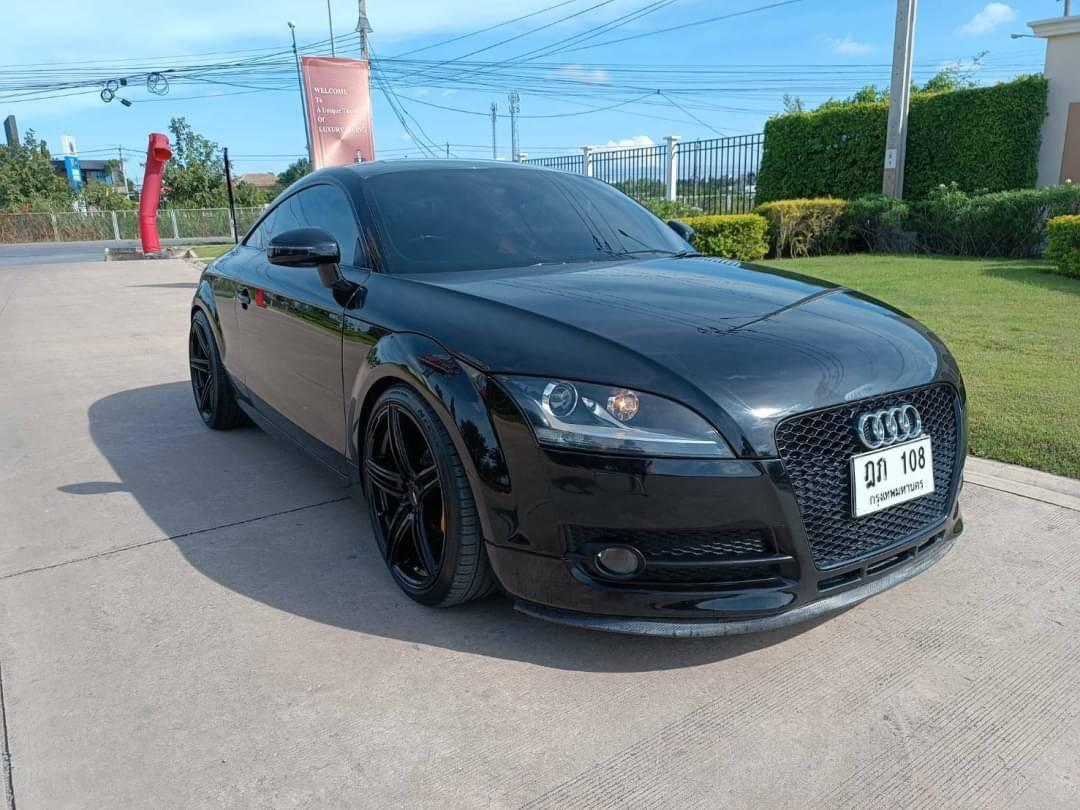license-plate: (847, 436, 942, 518)
